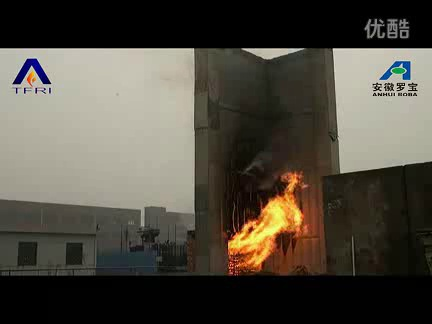fire: (227, 170, 309, 276)
